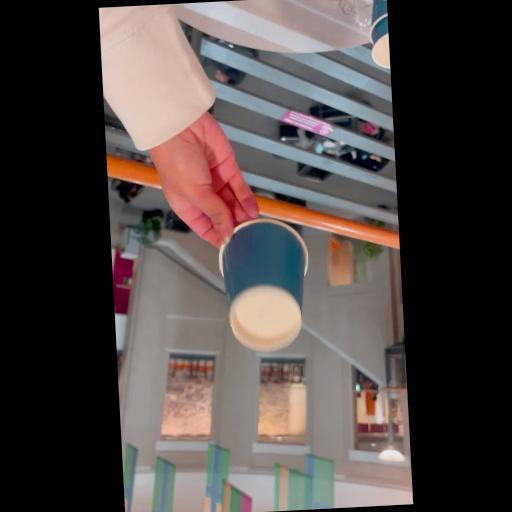lp_paper_cup: (213, 216, 314, 355)
